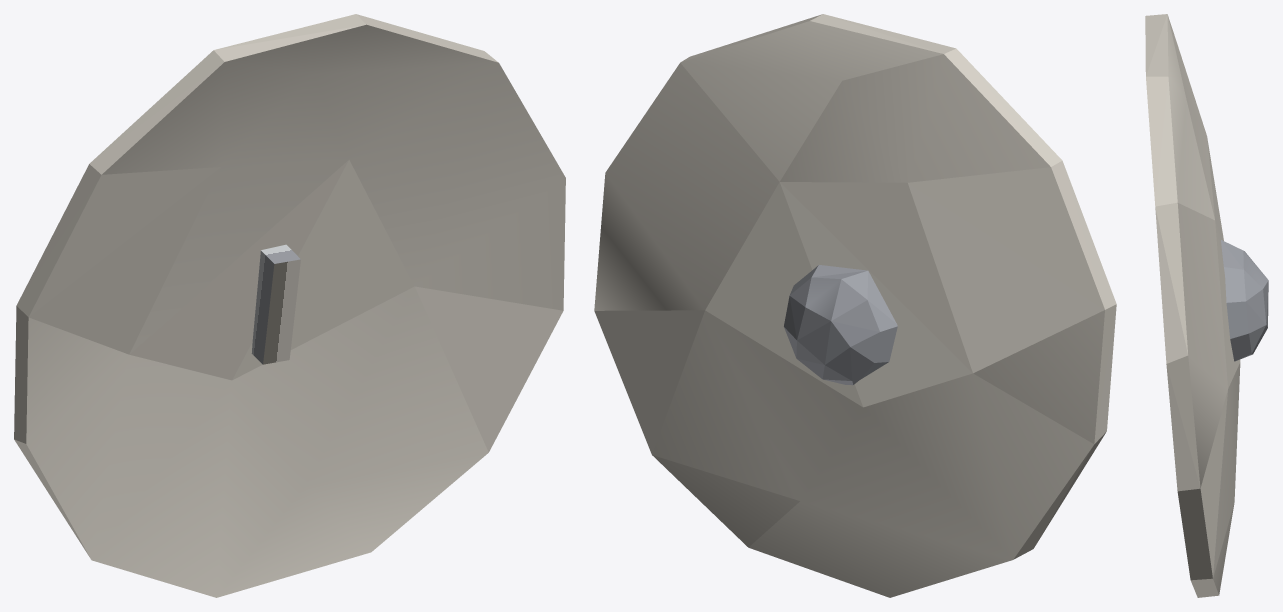
File: CE_MeleeShield.glb
The picture shows the model from 3 angles, left to right: view 1: azimuth 30°, elevation 25°; view 2: azimuth 150°, elevation 25°; view 3: azimuth 270°, elevation 25°; orthographic projection. The views are drawn at different scales.
Parts seen in each view (by area): view 1: CE_MeleeShield; view 2: CE_MeleeShield; view 3: CE_MeleeShield.
Part boxes in pixels (x1,y1,x2,y2): CE_MeleeShield: (14, 14, 565, 597); CE_MeleeShield: (594, 14, 1116, 597); CE_MeleeShield: (1145, 14, 1268, 597).
Size of the model in its own units: 8.62 by 8.67 by 1.87.
Materials: 1 (1 with a texture image).
